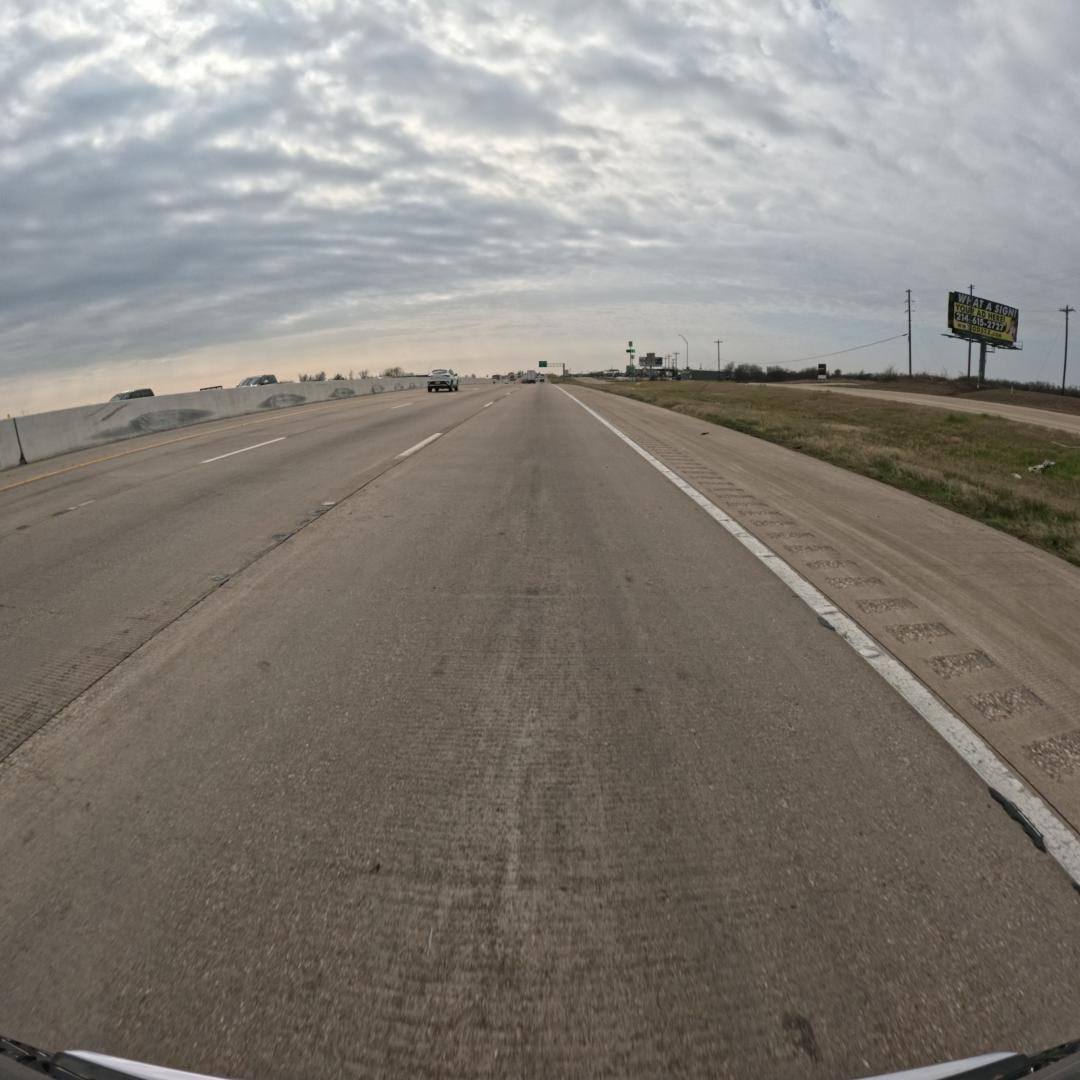lane0: (0, 387, 1080, 1076)
lane1: (0, 389, 504, 761)
